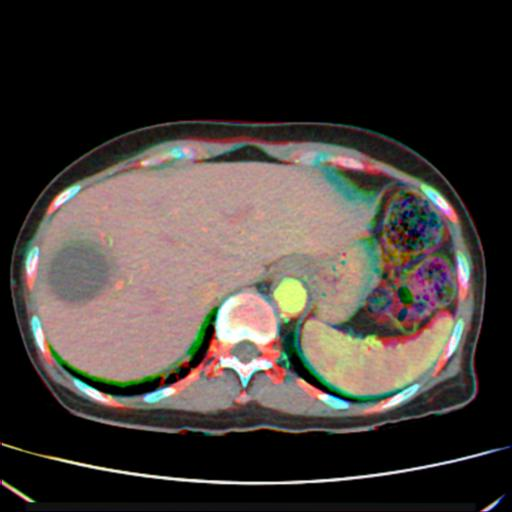Abscess: (48, 240, 108, 300)
